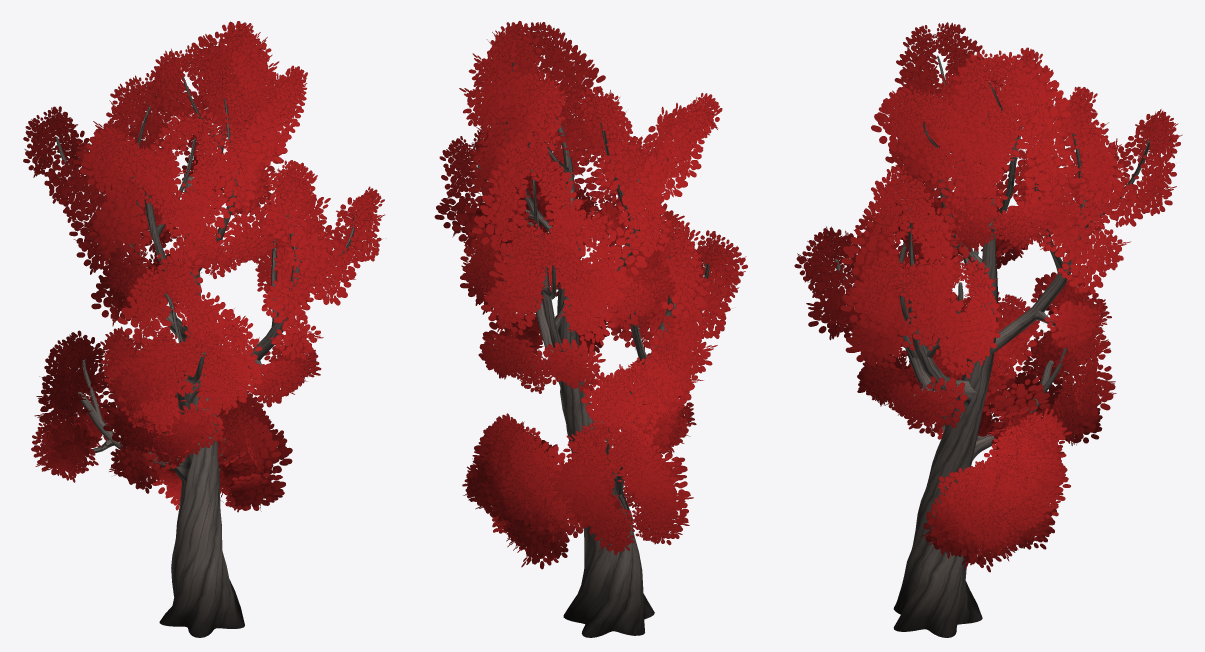
Rendered from TwistedTree_4.gltf.
The picture shows the model from 3 angles, left to right: view 1: azimuth 30°, elevation 25°; view 2: azimuth 150°, elevation 25°; view 3: azimuth 270°, elevation 25°; orthographic projection. The views are drawn at different scales.
Visible parts, largest first — view 1: TwistedTree_4; view 2: TwistedTree_4; view 3: TwistedTree_4.
Boxes of the visible parts, box(x1,y1,x2,y2) form: TwistedTree_4: box(23, 21, 384, 637); TwistedTree_4: box(434, 21, 747, 637); TwistedTree_4: box(794, 22, 1182, 637).
Bounding box in the file's own units: 10.38 × 18.74 × 11.29.
2 materials, 2 textured.
